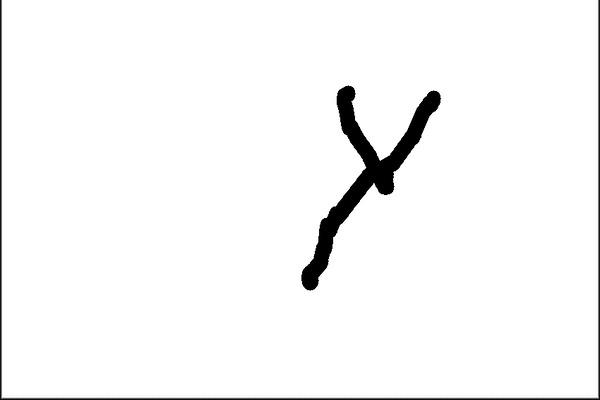Y: (278, 74, 460, 296)
